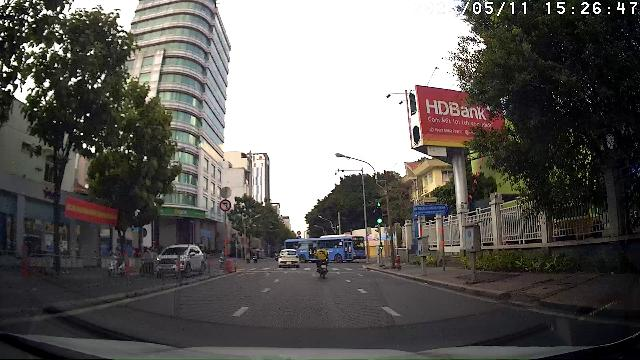123a-cam-re-trai: (219, 199, 232, 212)
